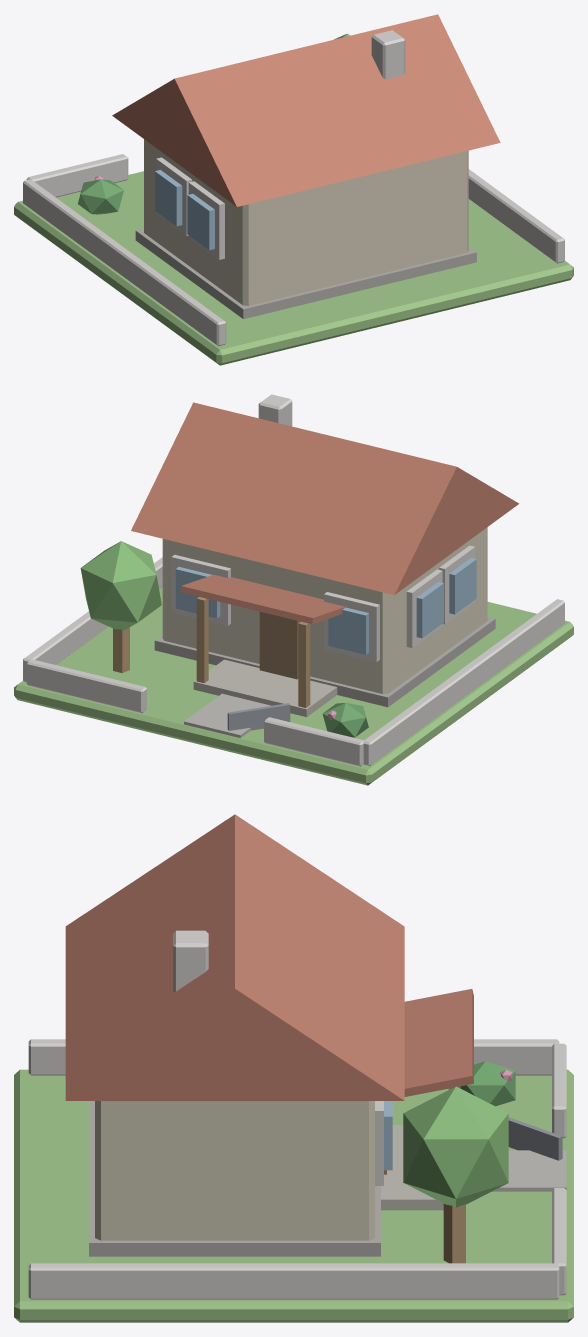
File: residencial__casa_simples.glb
The picture shows the model from 3 angles, top to bottom: view 1: azimuth 30°, elevation 25°; view 2: azimuth 150°, elevation 25°; view 3: azimuth 270°, elevation 25°; orthographic projection. The views are drawn at different scales.
Parts seen in each view (by area): view 1: residencial__casa_simples; view 2: residencial__casa_simples; view 3: residencial__casa_simples.
Part boxes in pixels (x1,y1,x2,y2): residencial__casa_simples: [14, 14, 573, 365]; residencial__casa_simples: [14, 394, 573, 785]; residencial__casa_simples: [14, 814, 573, 1322].
Bounding box in the file's own units: 1.9 × 1.15 × 1.9.
